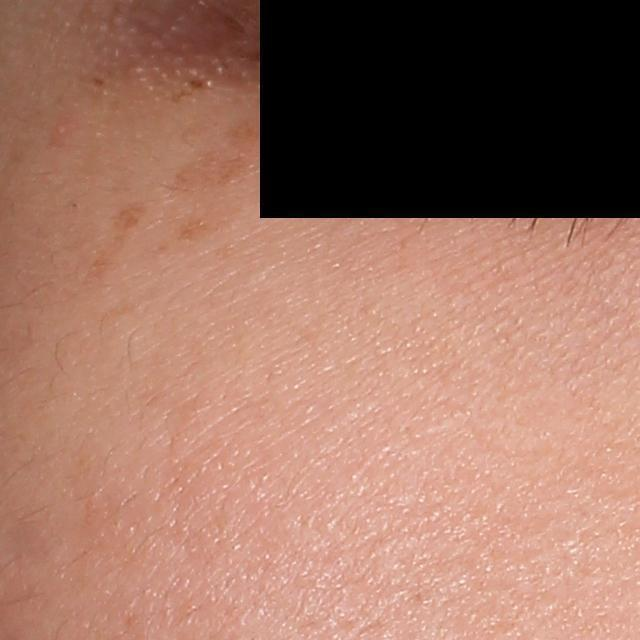melasma: (161, 109, 282, 256), (78, 191, 143, 296)
